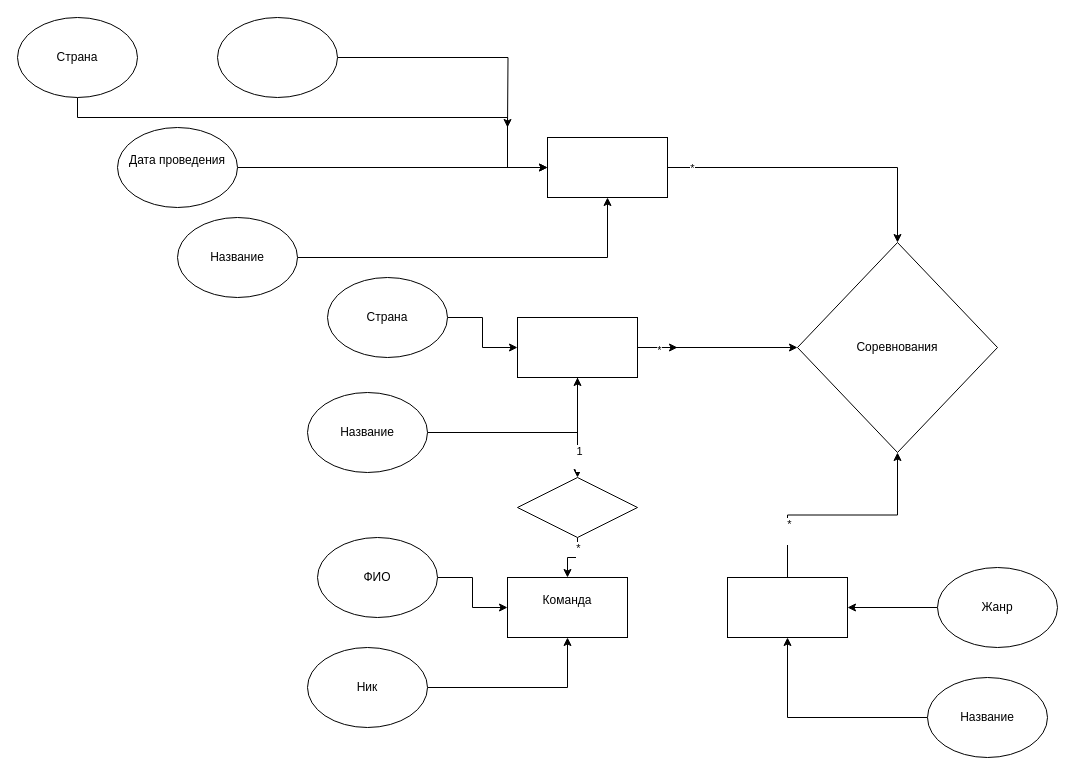
Image size: 1075x775. Some labels were removed from this diagram. The centre of each missing label's shape, as x and y in pixels:
Дисциплины: point 787,607
Клубы: point 577,347
Призовой фонд: point 277,57
Состоит: point 577,507
Турниры: point 607,167
